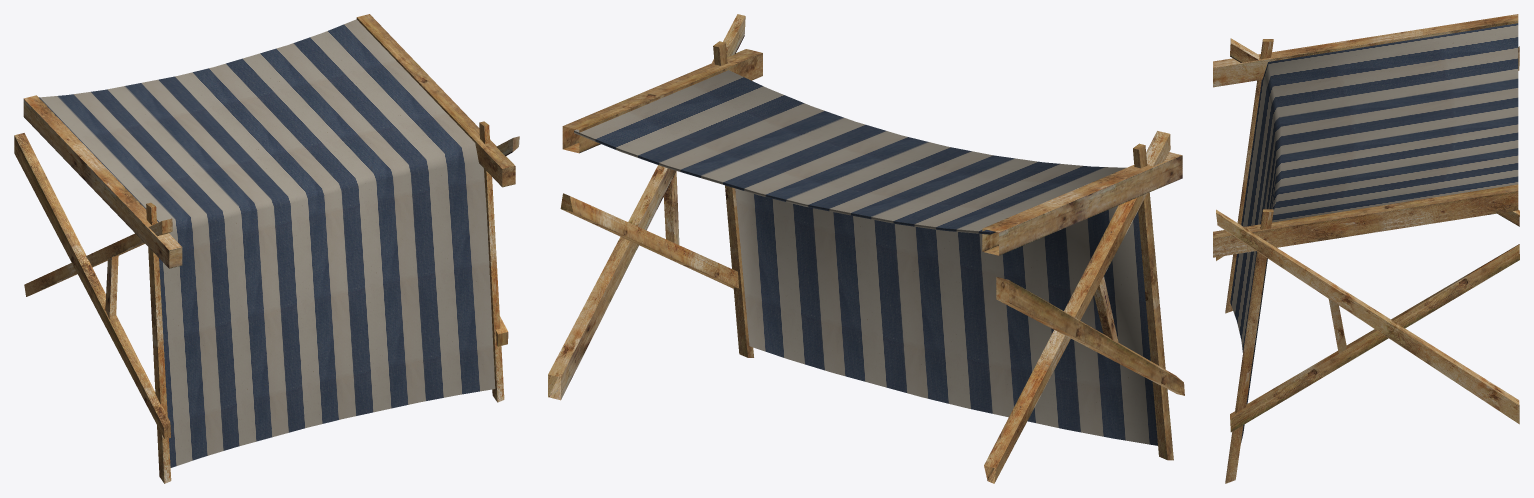
Rendered from canopy.obj.
3 renders of one model, left to right at view 1: azimuth 30°, elevation 25°; view 2: azimuth 150°, elevation 25°; view 3: azimuth 270°, elevation 25°, orthographic. The views are drawn at different scales.
Visible parts, largest first — view 1: object; view 2: object; view 3: object.
Part boxes in pixels (x1,y1,x2,y2): object: [14, 14, 519, 483]; object: [548, 14, 1184, 483]; object: [1213, 14, 1519, 483].
Bounding box in the file's own units: 196 × 145 × 136.
